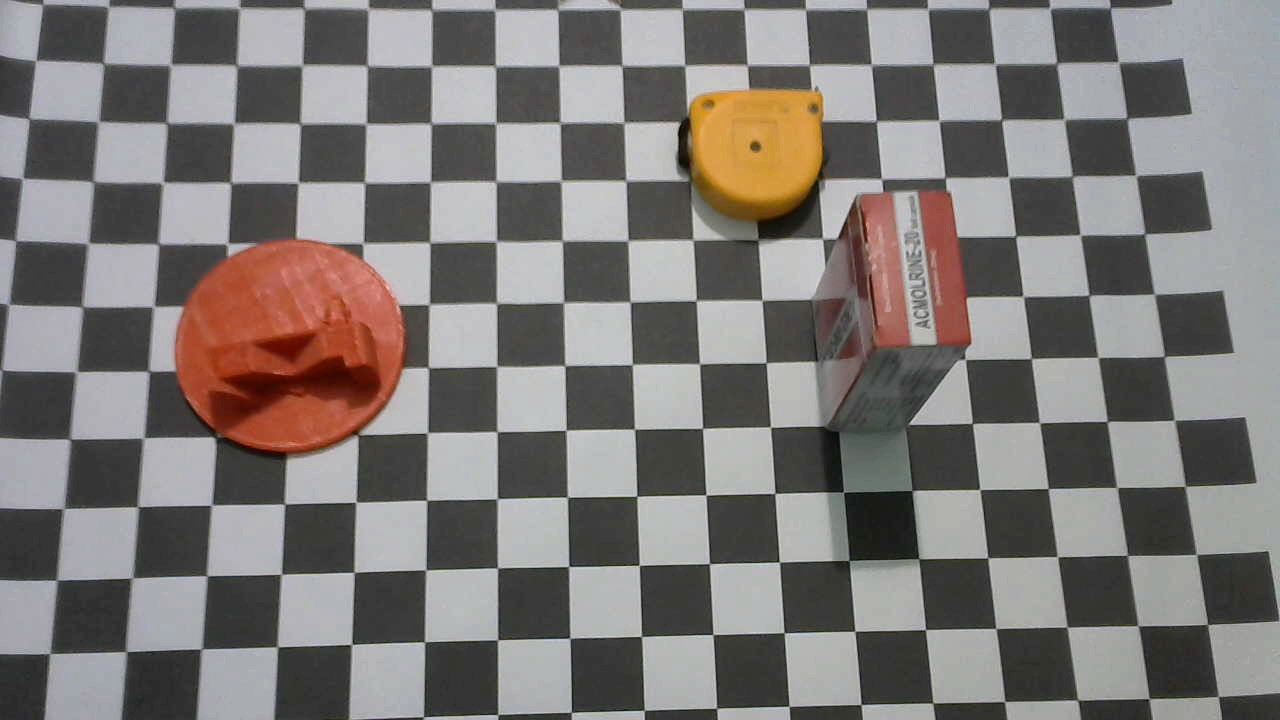blue: (678, 88, 828, 219)
green: (172, 237, 411, 453)
red: (812, 193, 974, 427)
